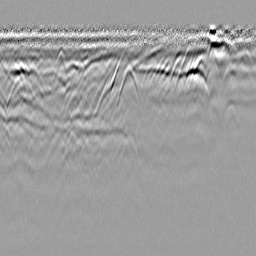cavity: (115, 63, 141, 110)
